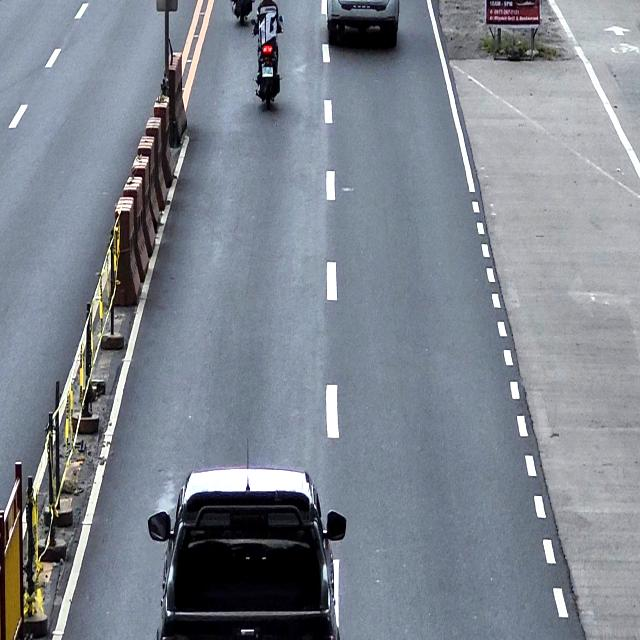Car: (146, 464, 348, 640), (326, 0, 402, 51)
License-Plate: (261, 66, 274, 77)
Motorcycle: (250, 12, 285, 110)
